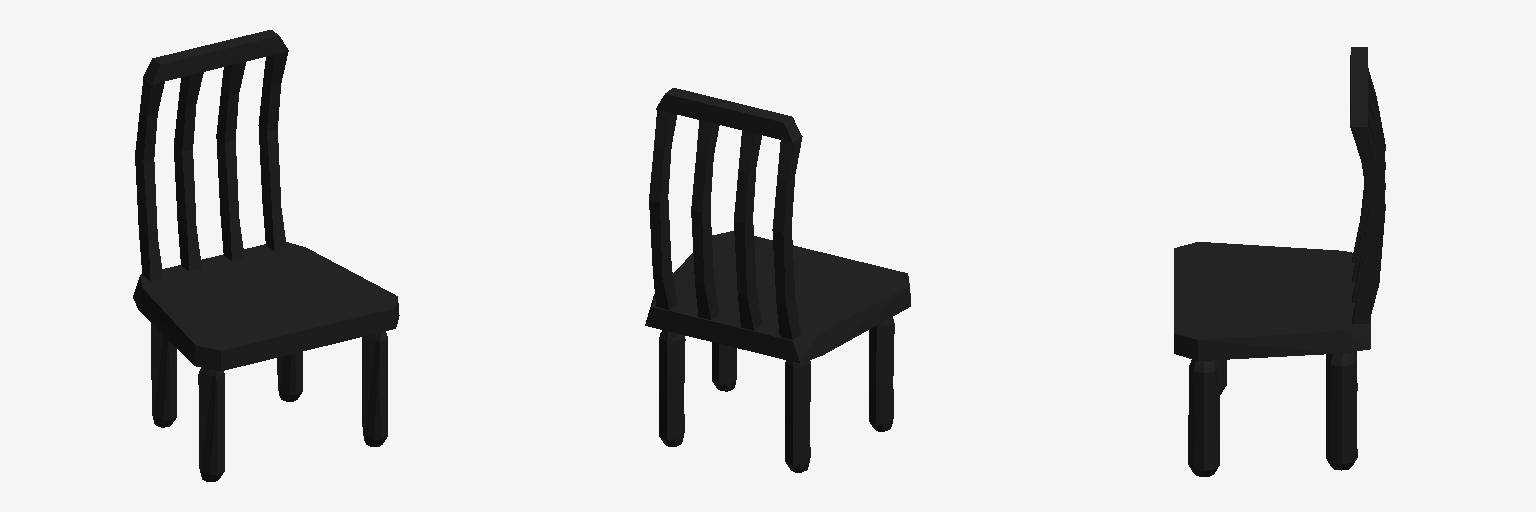
Rendered from Texture_Chair.obj.
3 views of the same model, side by side, from view 1: azimuth 30°, elevation 25°; view 2: azimuth 150°, elevation 25°; view 3: azimuth 270°, elevation 25° (orthographic).
Visible parts, largest first — view 1: pCube1, pCube1 pCube2 pCube5 pCube3 pCube4, pCube1 pCylinder4 pCylinder2 pCylinder1 pCylinder3, pCube1 pCube6; view 2: pCube1, pCube1 pCube2 pCube5 pCube3 pCube4, pCube1 pCylinder4 pCylinder2 pCylinder1 pCylinder3, pCube1 pCube6; view 3: pCube1, pCube1 pCylinder4 pCylinder2 pCylinder1 pCylinder3, pCube1 pCube2 pCube5 pCube3 pCube4, pCube1 pCube6.
Part boxes in pixels (left/top/right/bottom): pCube1: left=133, top=242, right=399, bottom=370; pCube1 pCube2 pCube5 pCube3 pCube4: left=135, top=51, right=288, bottom=280; pCube1 pCylinder4 pCylinder2 pCylinder1 pCylinder3: left=151, top=323, right=387, bottom=481; pCube1 pCube6: left=143, top=30, right=288, bottom=83; pCube1: left=645, top=231, right=910, bottom=363; pCube1 pCube2 pCube5 pCube3 pCube4: left=649, top=110, right=802, bottom=339; pCube1 pCylinder4 pCylinder2 pCylinder1 pCylinder3: left=659, top=317, right=894, bottom=472; pCube1 pCube6: left=656, top=88, right=801, bottom=142; pCube1: left=1174, top=242, right=1370, bottom=360; pCube1 pCylinder4 pCylinder2 pCylinder1 pCylinder3: left=1188, top=352, right=1357, bottom=476; pCube1 pCube2 pCube5 pCube3 pCube4: left=1350, top=68, right=1385, bottom=323; pCube1 pCube6: left=1350, top=47, right=1367, bottom=126.
Bounding box in the file's own units: 10.39 × 17.39 × 9.25.